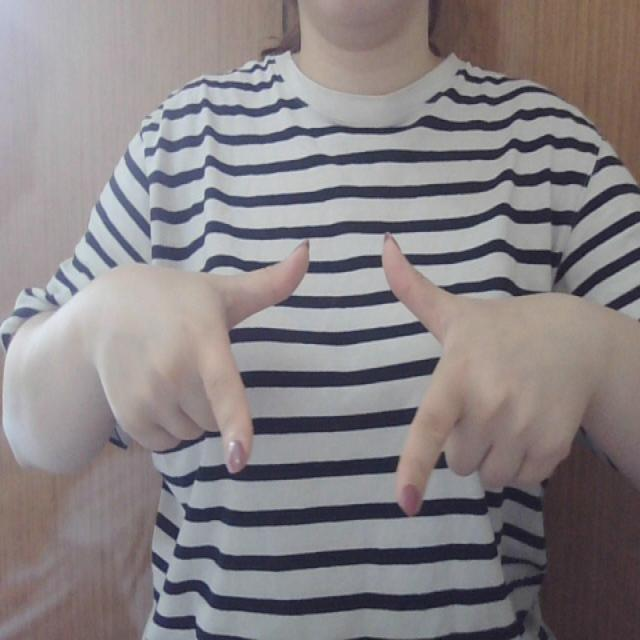Nerede: (172, 228, 477, 522)
